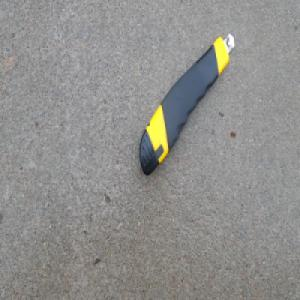Cutter: (138, 32, 234, 178)
